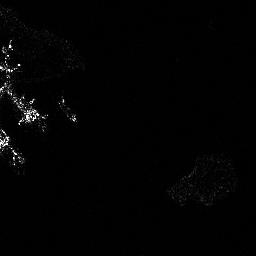ship: (56, 97, 77, 124)
